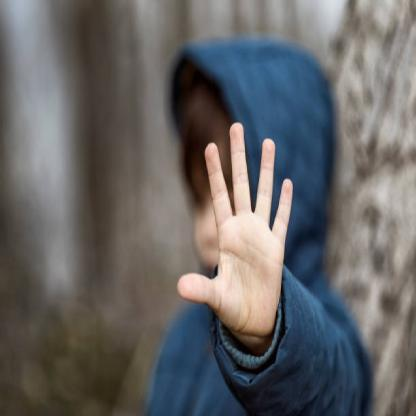stop: (174, 116, 296, 339)
